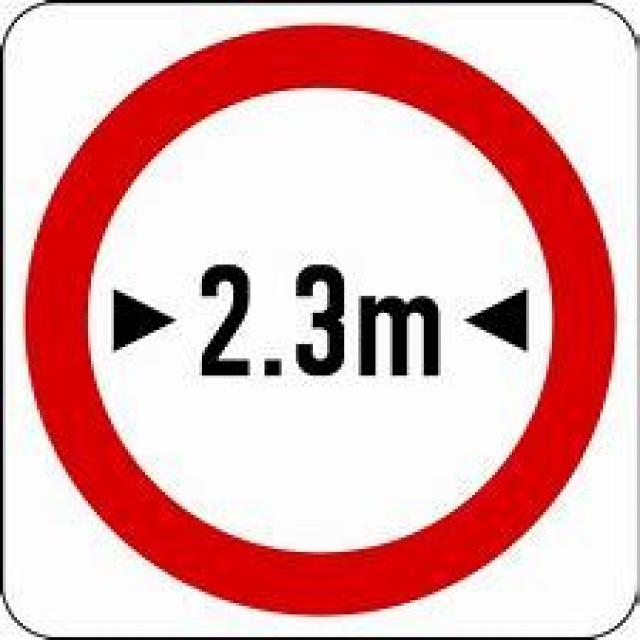WIDTH_LIMIT: (23, 23, 614, 614)
